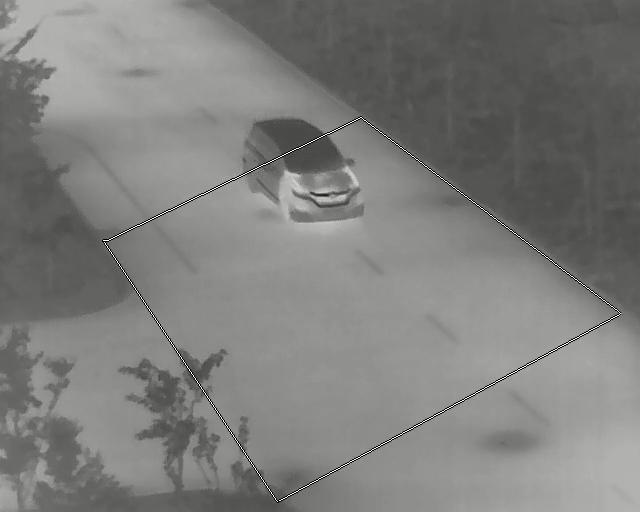vehicle: (241, 119, 366, 222)
